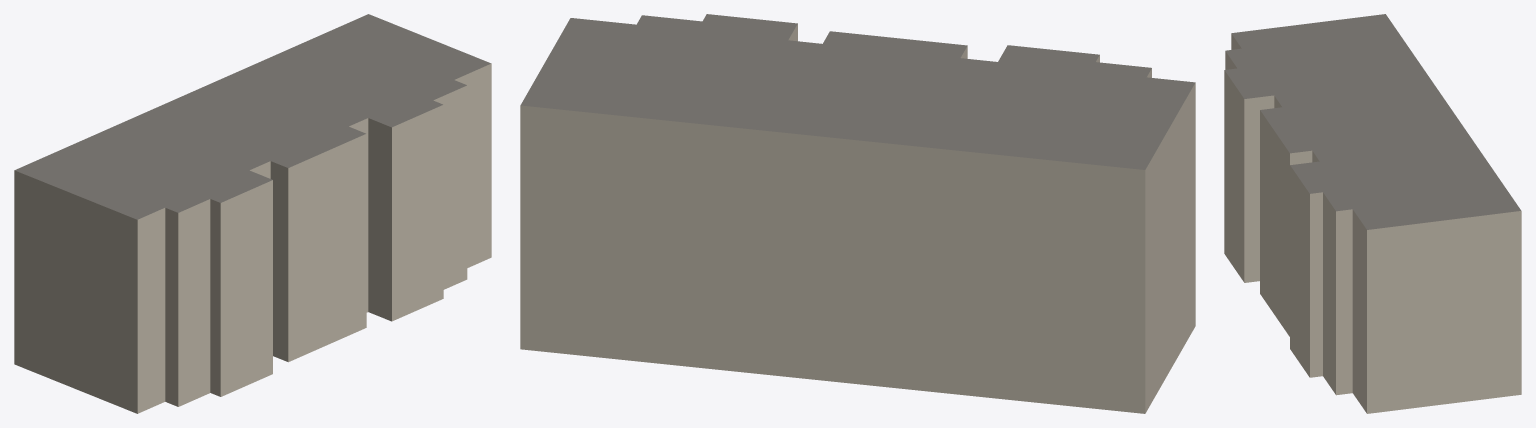
3 renders of one model, left to right at view 1: azimuth 30°, elevation 25°; view 2: azimuth 150°, elevation 25°; view 3: azimuth 270°, elevation 25°, orthographic. The views are drawn at different scales.
Visible parts, largest first — view 1: HP-w1270806035; view 2: HP-w1270806035; view 3: HP-w1270806035.
Boxes of the visible parts, x1,y1,x2,y2 form: HP-w1270806035: (14, 14, 491, 413); HP-w1270806035: (520, 14, 1195, 413); HP-w1270806035: (1224, 14, 1521, 413).
Size of the model in its own units: 45.35 by 18 by 26.34.
